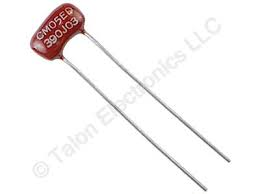ceramic capacitor: (13, 1, 100, 65)
